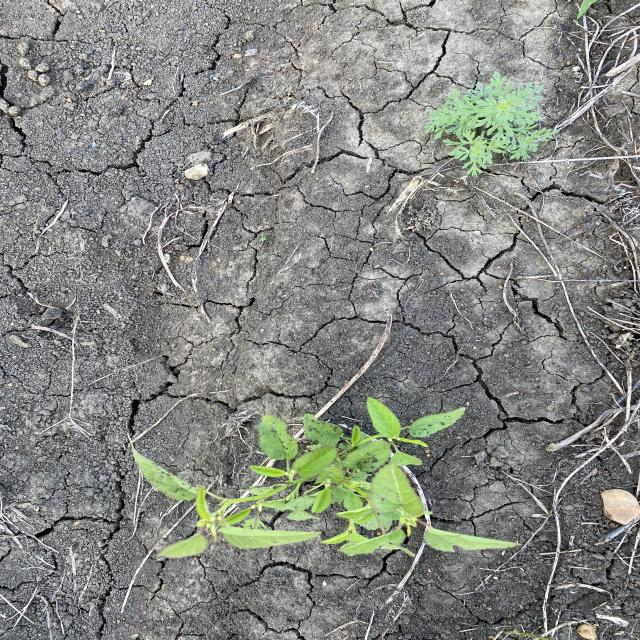PricklySida: (130, 395, 526, 564)
Ragweed: (422, 70, 562, 179)
